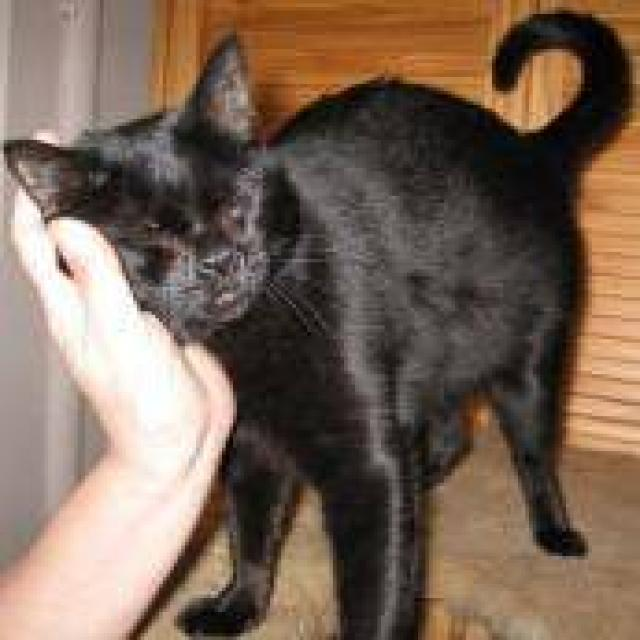cat: (0, 11, 633, 636)
